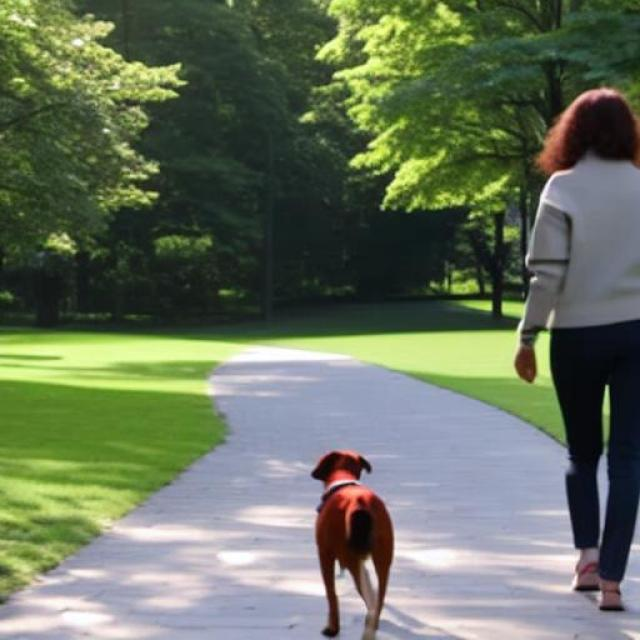Unleashed_Dog: (310, 319, 640, 640)
